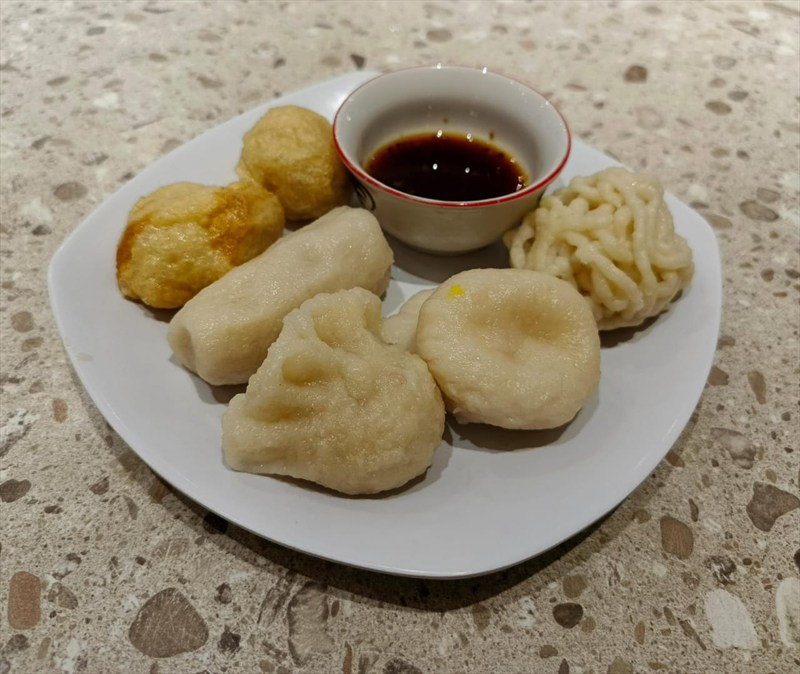Pempek: (117, 111, 658, 619)
